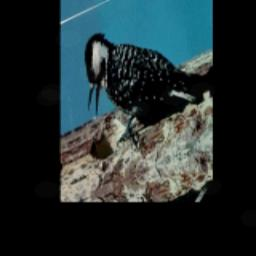Woodpecker: (77, 0, 210, 172)
